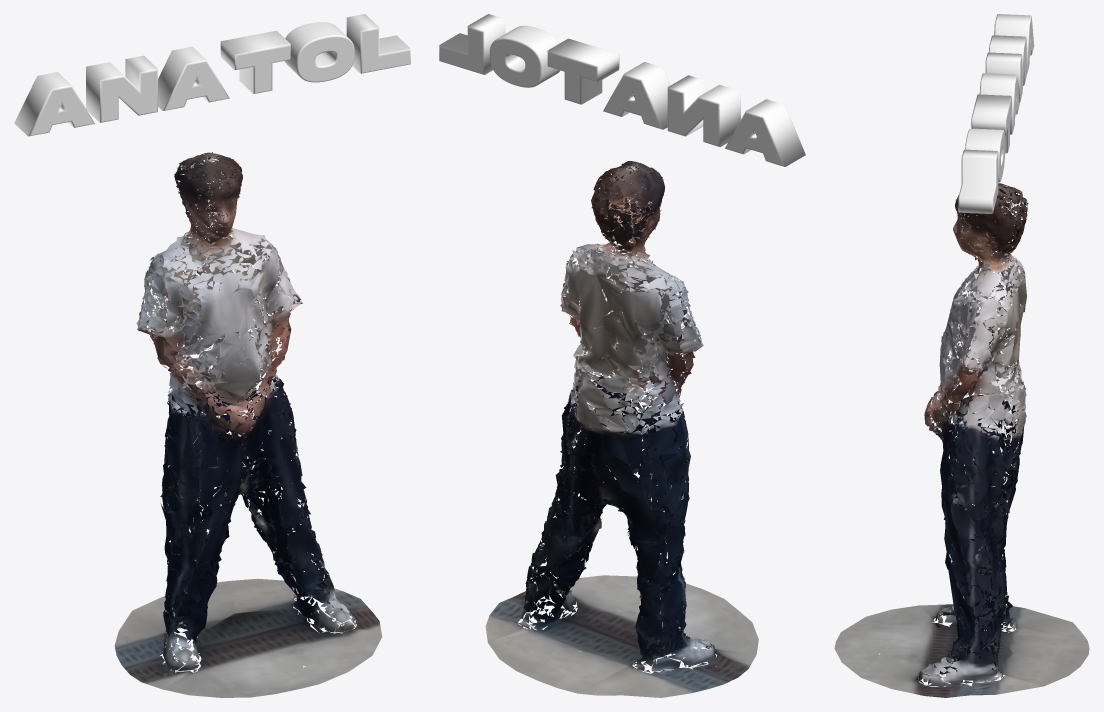
The model's file is anatol.glb.
3 views of the same model, side by side, from view 1: azimuth 30°, elevation 25°; view 2: azimuth 150°, elevation 25°; view 3: azimuth 270°, elevation 25° (orthographic). The views are drawn at different scales.
Parts seen in each view (by area): view 1: anatol, Text.009; view 2: anatol, Text.009; view 3: anatol, Text.009.
Boxes of the visible parts, box(x1,y1,x2,y2) form: anatol: box(114, 152, 382, 697); Text.009: box(14, 14, 410, 136); anatol: box(485, 161, 758, 697); Text.009: box(439, 14, 805, 166); anatol: box(834, 183, 1089, 697); Text.009: box(958, 14, 1034, 213).
Size of the model in its own units: 1.69 by 2.61 by 1.07.
2 materials, 1 textured.
